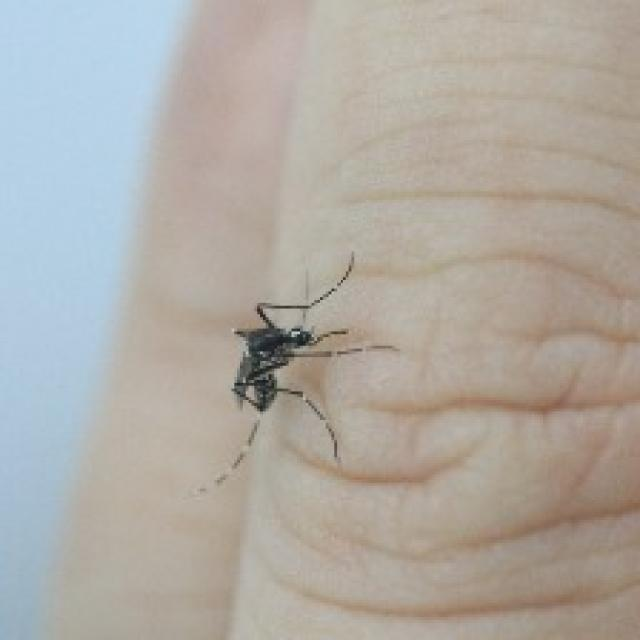aedes: (194, 246, 400, 494)
